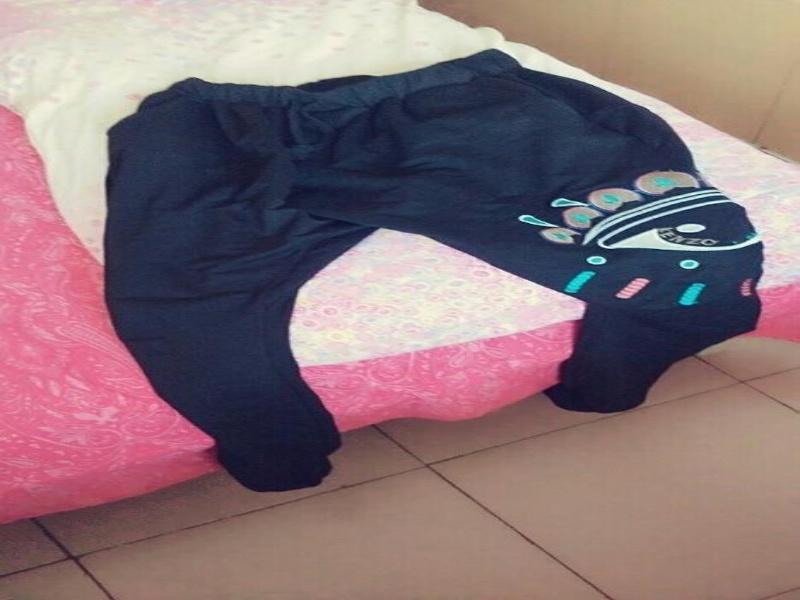trousers: (84, 45, 778, 499)
